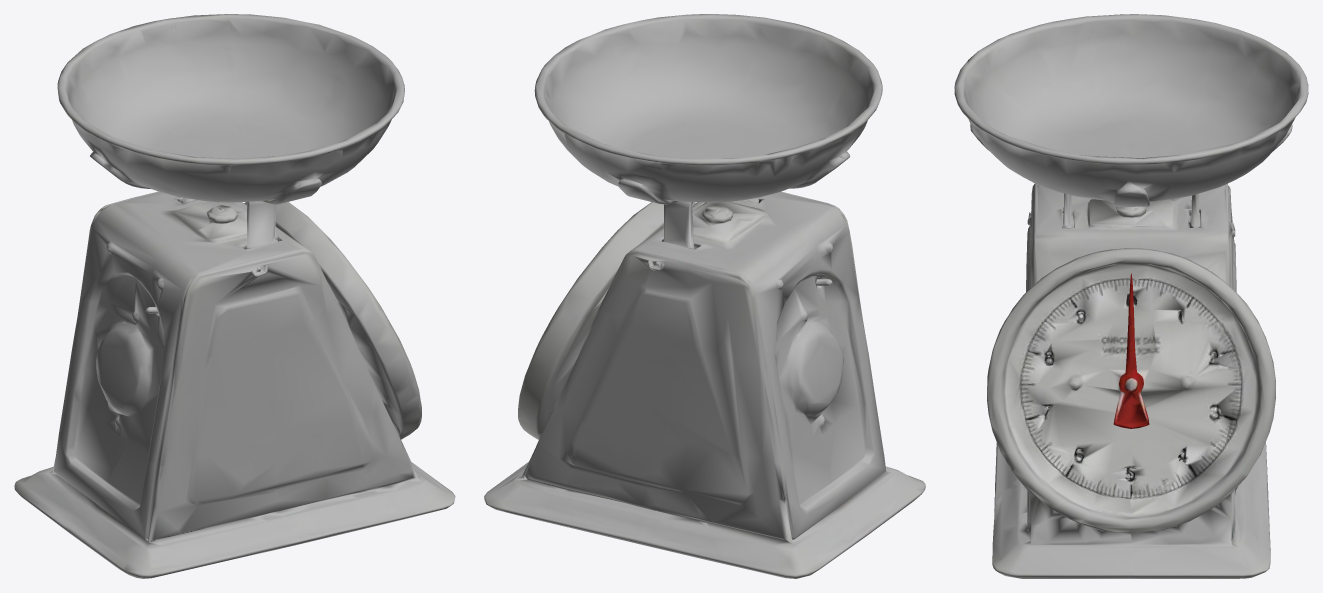
The model's file is scale.glb.
The picture shows the model from 3 angles, left to right: view 1: azimuth 30°, elevation 25°; view 2: azimuth 150°, elevation 25°; view 3: azimuth 270°, elevation 25°; orthographic projection.
Visible parts, largest first — view 1: tripo_node_c4ed0e5a-a404-40e3-9466-be9e923bd17a; view 2: tripo_node_c4ed0e5a-a404-40e3-9466-be9e923bd17a; view 3: tripo_node_c4ed0e5a-a404-40e3-9466-be9e923bd17a.
Boxes of the visible parts, bbox=[...] form: tripo_node_c4ed0e5a-a404-40e3-9466-be9e923bd17a: bbox=[14, 14, 455, 578]; tripo_node_c4ed0e5a-a404-40e3-9466-be9e923bd17a: bbox=[484, 14, 925, 578]; tripo_node_c4ed0e5a-a404-40e3-9466-be9e923bd17a: bbox=[954, 14, 1308, 578].
Size of the model in its own units: 0.8348 by 0.9998 by 0.776.
1 material, 1 textured.
